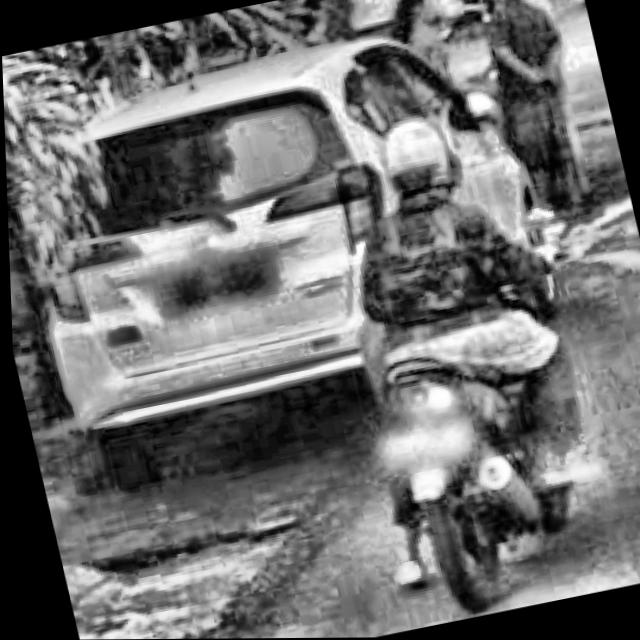motorcycle: (305, 186, 640, 625)
